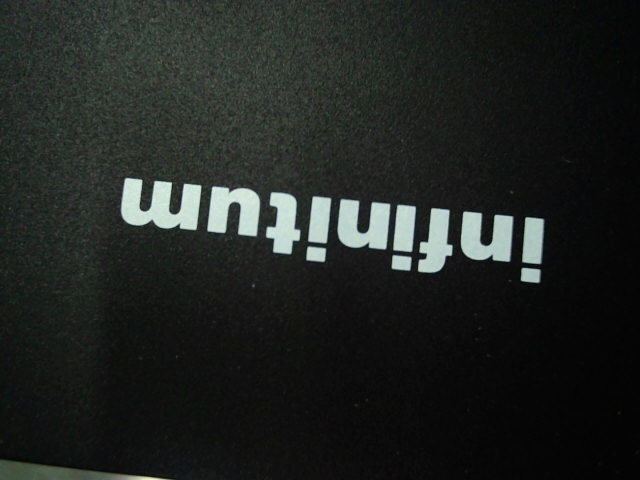BK_infinitum: (104, 161, 550, 294)
